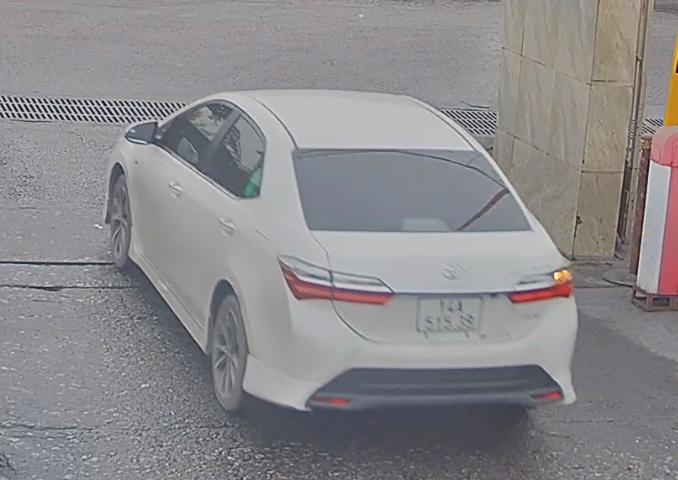vehicle plate: (417, 295, 491, 336)
